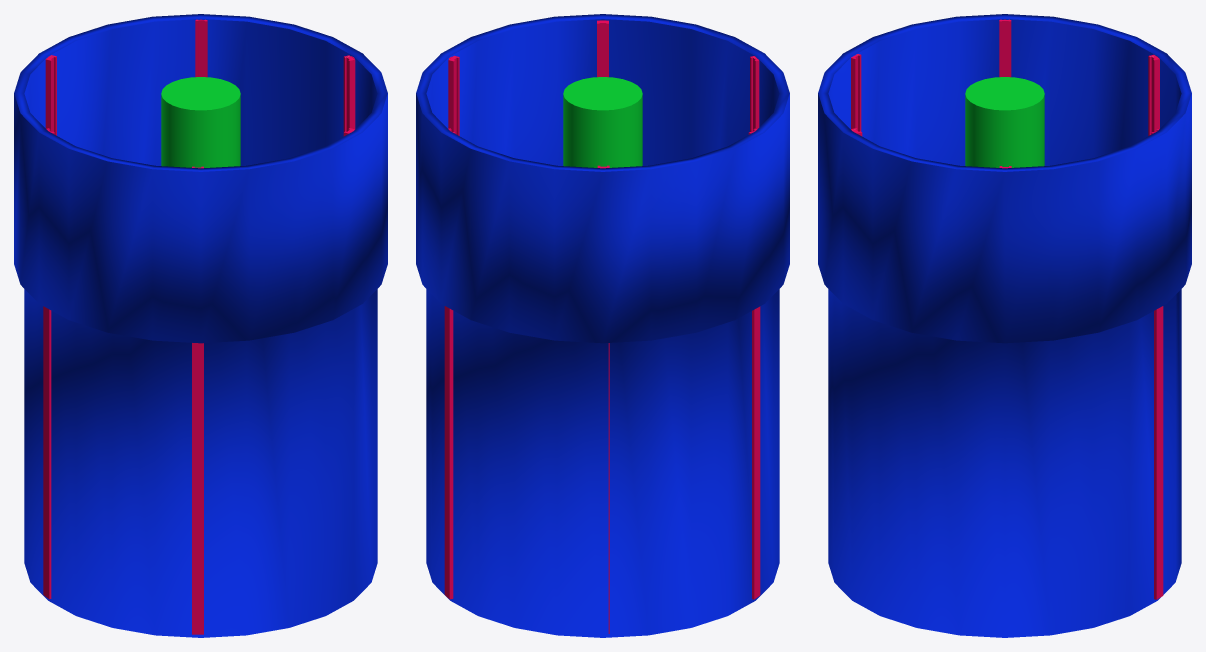
The model's file is ruleta_Arregalda.fbx.
3 renders of one model, left to right at view 1: azimuth 30°, elevation 25°; view 2: azimuth 150°, elevation 25°; view 3: azimuth 270°, elevation 25°, orthographic.
Parts seen in each view (by area): view 1: ruleta_low, rails_low; view 2: ruleta_low, rails_low; view 3: ruleta_low, rails_low.
Boxes of the visible parts, left/top/right/bottom form: ruleta_low: left=14, top=14, right=387, bottom=637; rails_low: left=43, top=19, right=355, bottom=634; ruleta_low: left=416, top=14, right=789, bottom=637; rails_low: left=444, top=20, right=760, bottom=633; ruleta_low: left=818, top=14, right=1191, bottom=637; rails_low: left=851, top=19, right=1163, bottom=599.
Bounding box in the file's own units: 198 × 280 × 198.
